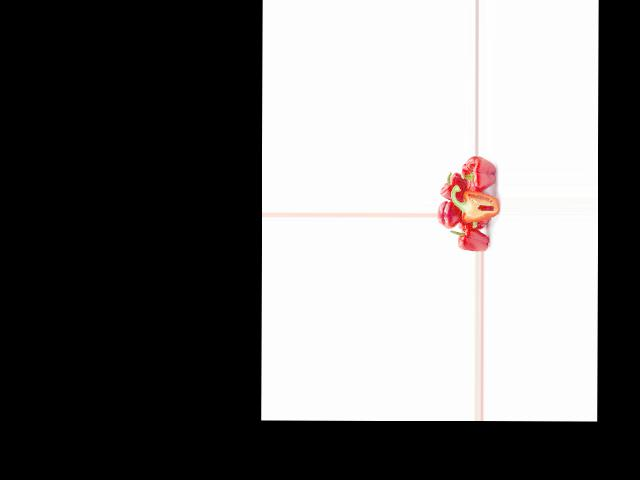bell_pepper: (440, 171, 464, 201)
